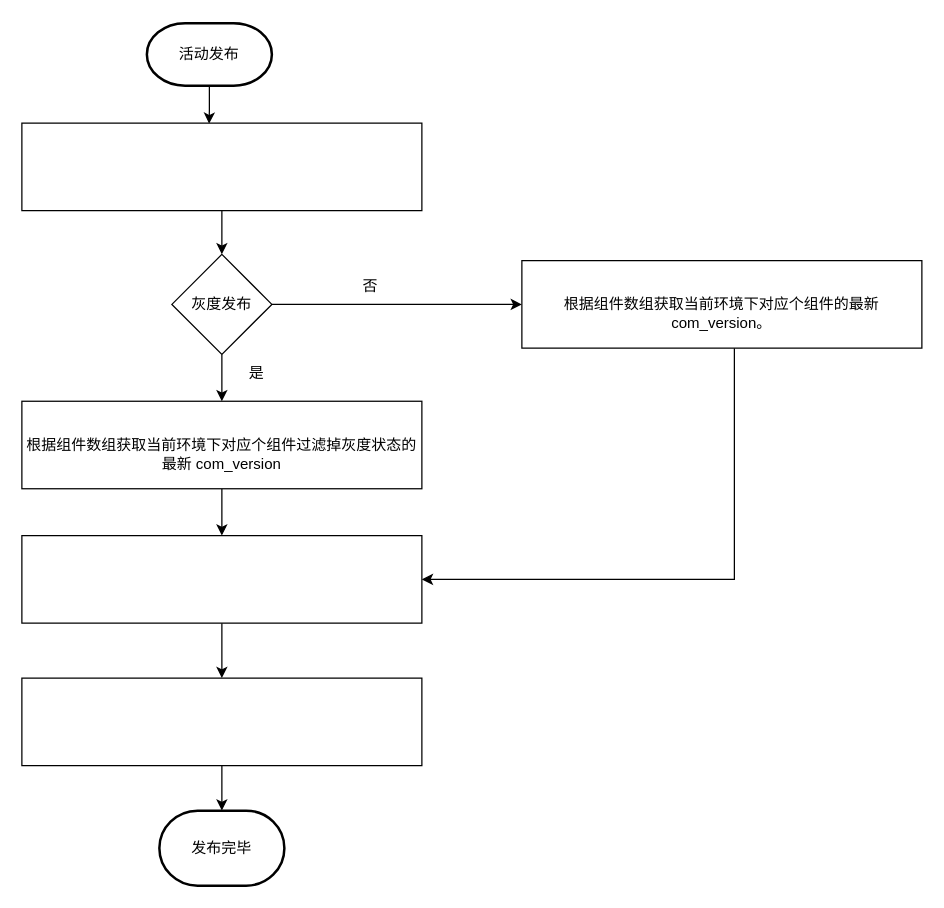
Some shapes in this 944 by 908 pixel diagram are drawn without their labels. Each missing label, with the box of its shape:
发起请求，并携带，活动id，组件数组，结构树等信息。: (21, 122, 422, 211)
根据 com_version 获取组件源码: (21, 534, 422, 623)
根据组件源码和结构树拼装页面与静态资源上传CDN。: (21, 677, 422, 766)
